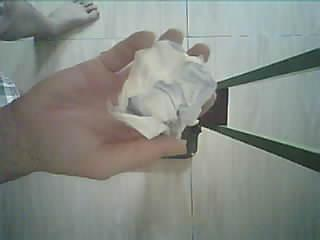paper: (106, 38, 216, 139)
